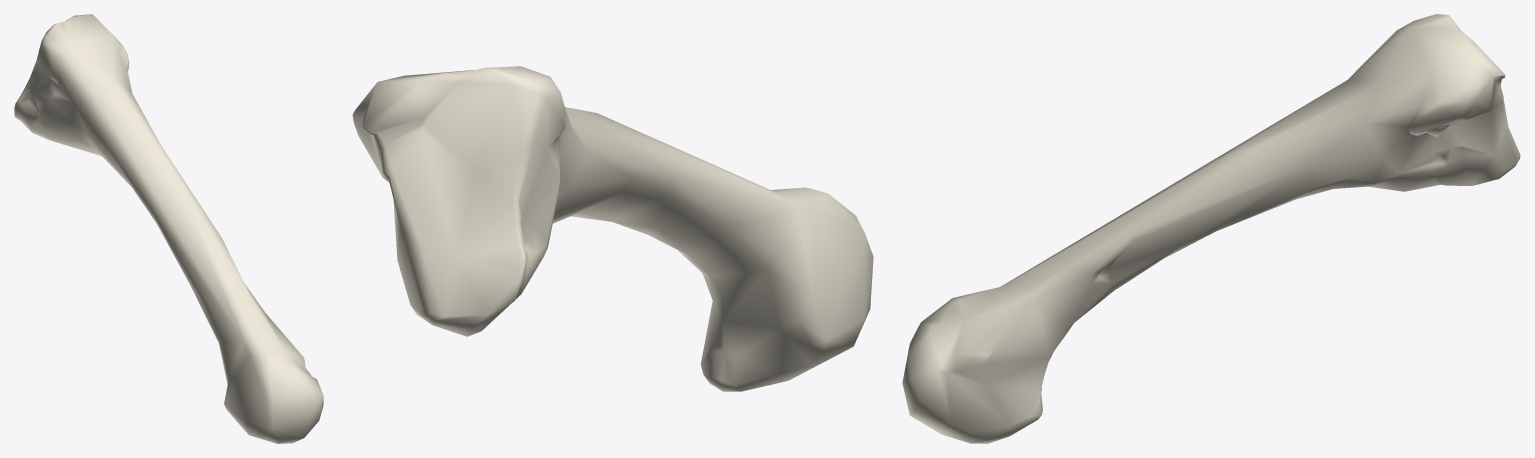
3 renders of one model, left to right at view 1: azimuth 30°, elevation 25°; view 2: azimuth 150°, elevation 25°; view 3: azimuth 270°, elevation 25°, orthographic. The views are drawn at different scales.
Visible parts, largest first — view 1: ZA_661f01d69bb1de30; view 2: ZA_661f01d69bb1de30; view 3: ZA_661f01d69bb1de30.
Boxes of the visible parts, box(x1,y1,x2,y2) form: ZA_661f01d69bb1de30: box(14, 14, 323, 443); ZA_661f01d69bb1de30: box(352, 66, 873, 391); ZA_661f01d69bb1de30: box(902, 14, 1520, 443).
Bounding box in the file's own units: 0.0174 × 0.0499 × 0.0705.
